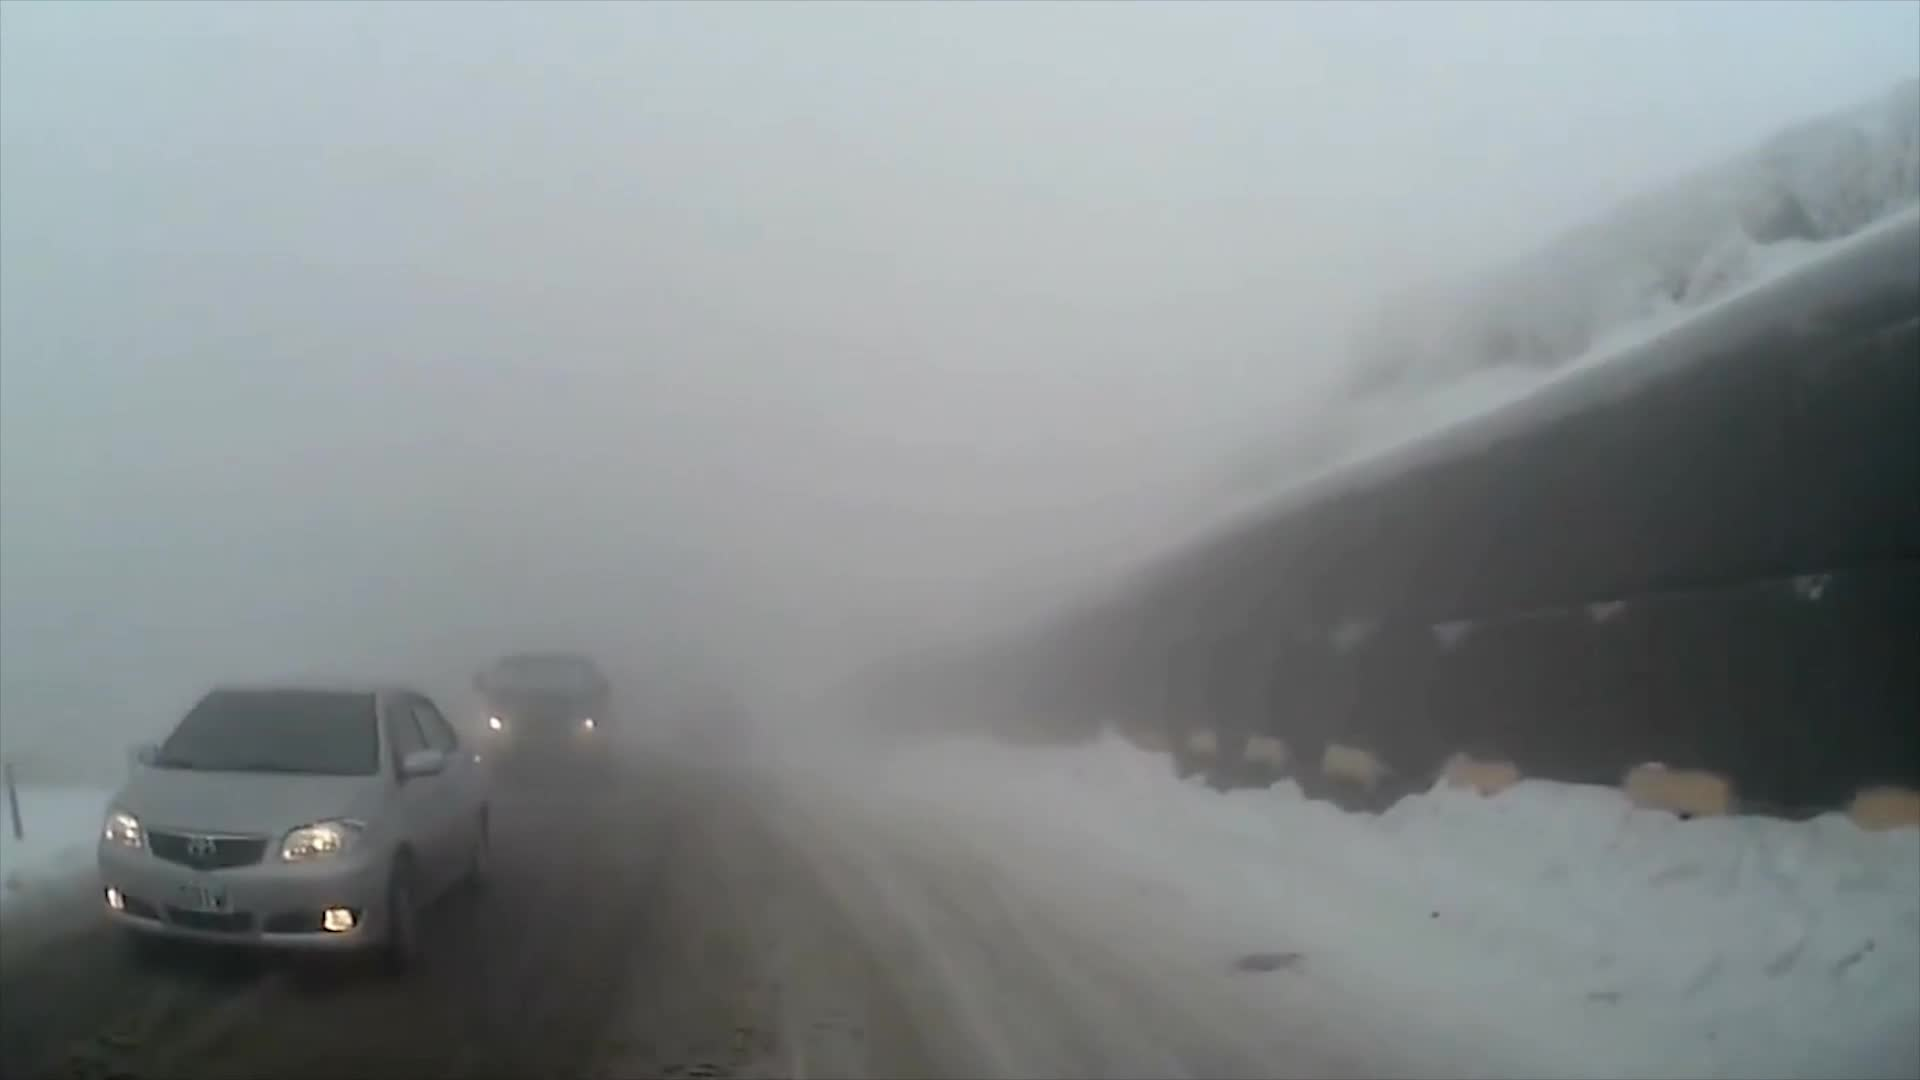vehicle: (95, 673, 498, 982), (469, 649, 615, 778)
